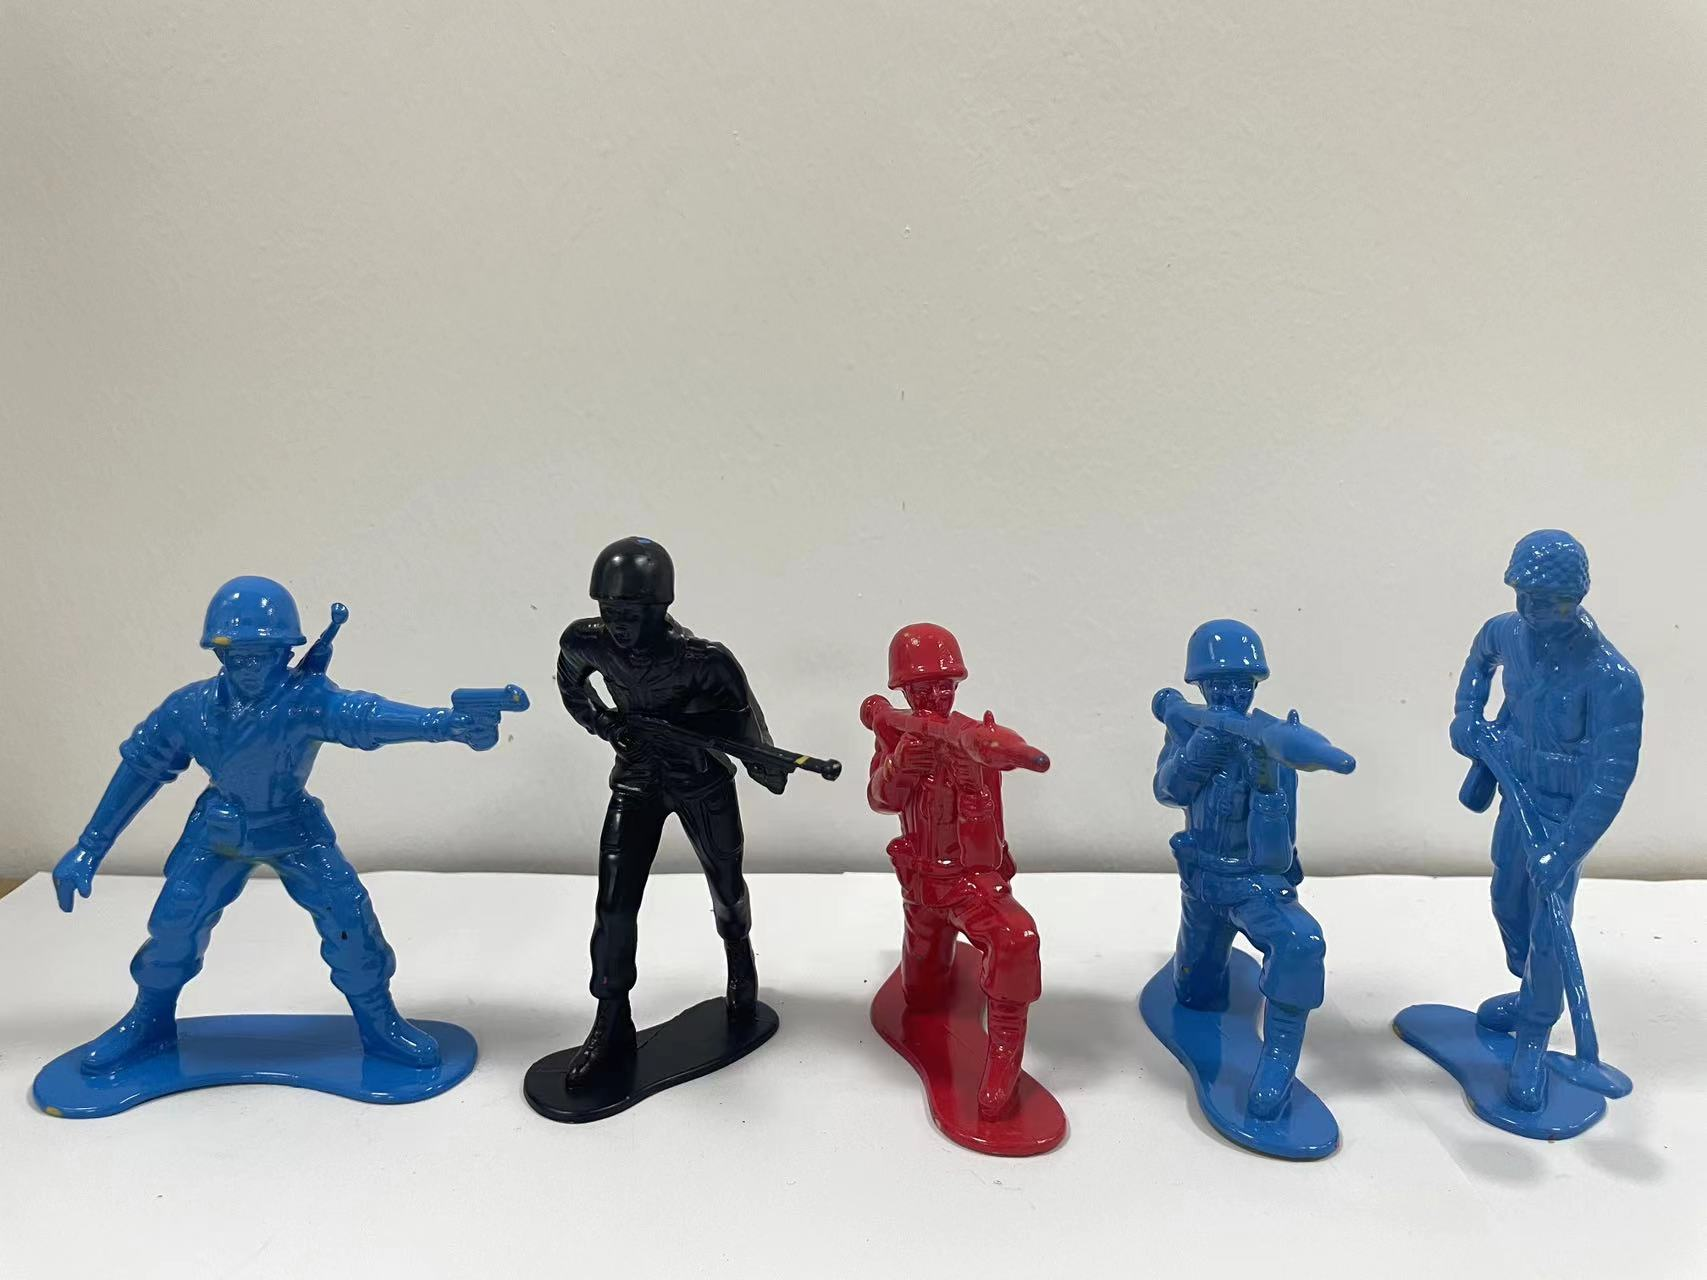black: (530, 524, 845, 1112)
blue: (34, 541, 542, 1143), (1380, 502, 1695, 1185), (1106, 612, 1374, 1164)
red: (832, 575, 1104, 1194)
